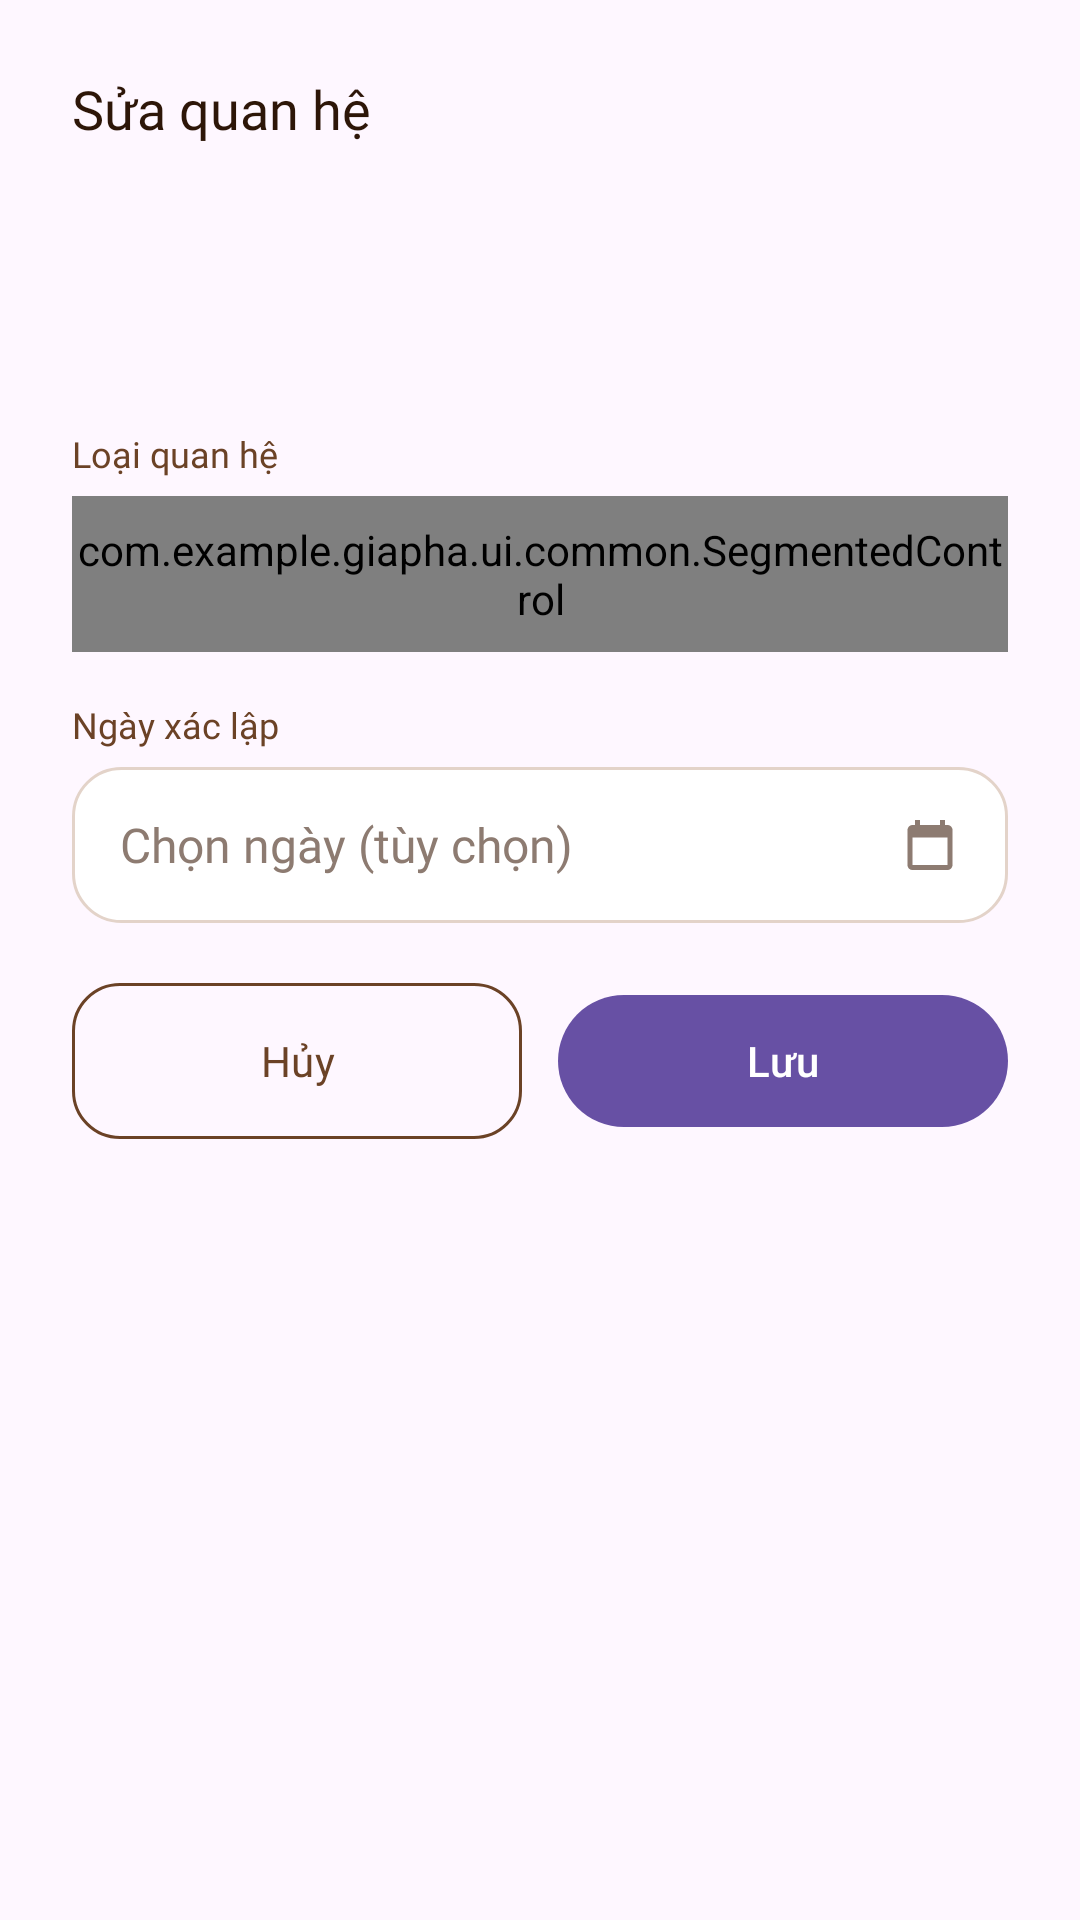

Locate icon controls on the screen. Image size 1080px×1920px, boxes as bbox(x1, y1, x2, y2).
calendar: bbox(907, 820, 953, 870)
